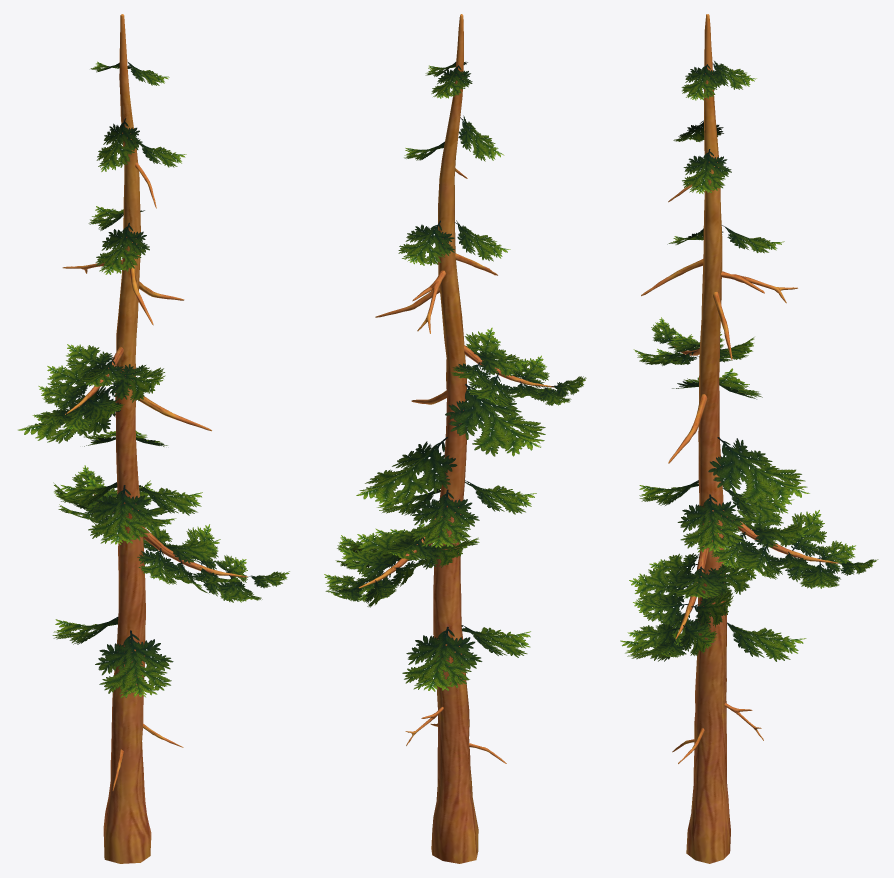
The model's file is stylized_pine_var4.glb.
The picture shows the model from 3 angles, left to right: view 1: azimuth 30°, elevation 25°; view 2: azimuth 150°, elevation 25°; view 3: azimuth 270°, elevation 25°; orthographic projection.
Visible parts, largest first — view 1: stylized_pine_var4; view 2: stylized_pine_var4; view 3: stylized_pine_var4.
Part boxes in pixels (<box>): stylized_pine_var4: <box>18,14,289,863</box>; stylized_pine_var4: <box>324,14,586,863</box>; stylized_pine_var4: <box>620,14,878,863</box>.
Size of the model in its own units: 445 by 1436 by 408.
2 materials, 2 textured.
